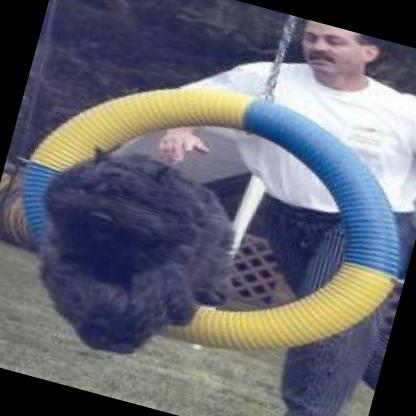Bouvier_des_Flandres: (3, 128, 258, 380)
